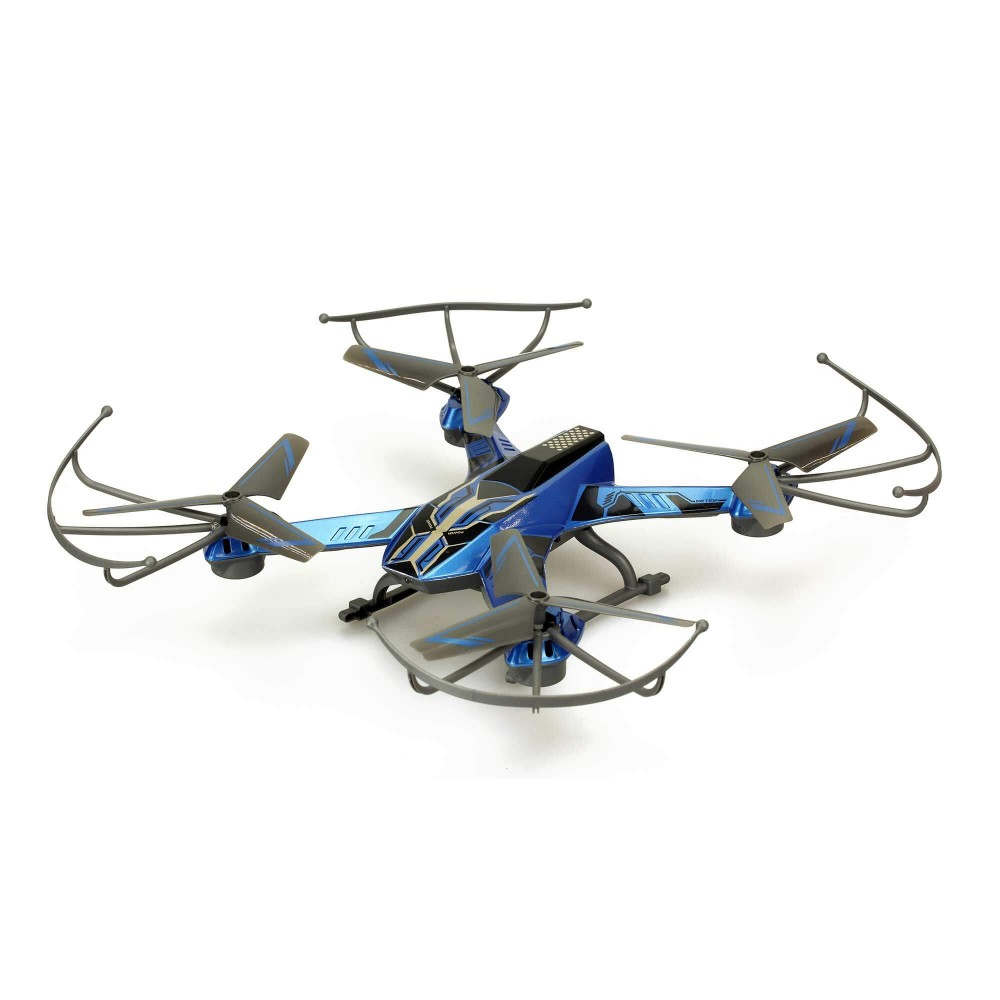drone: (46, 293, 945, 722)
